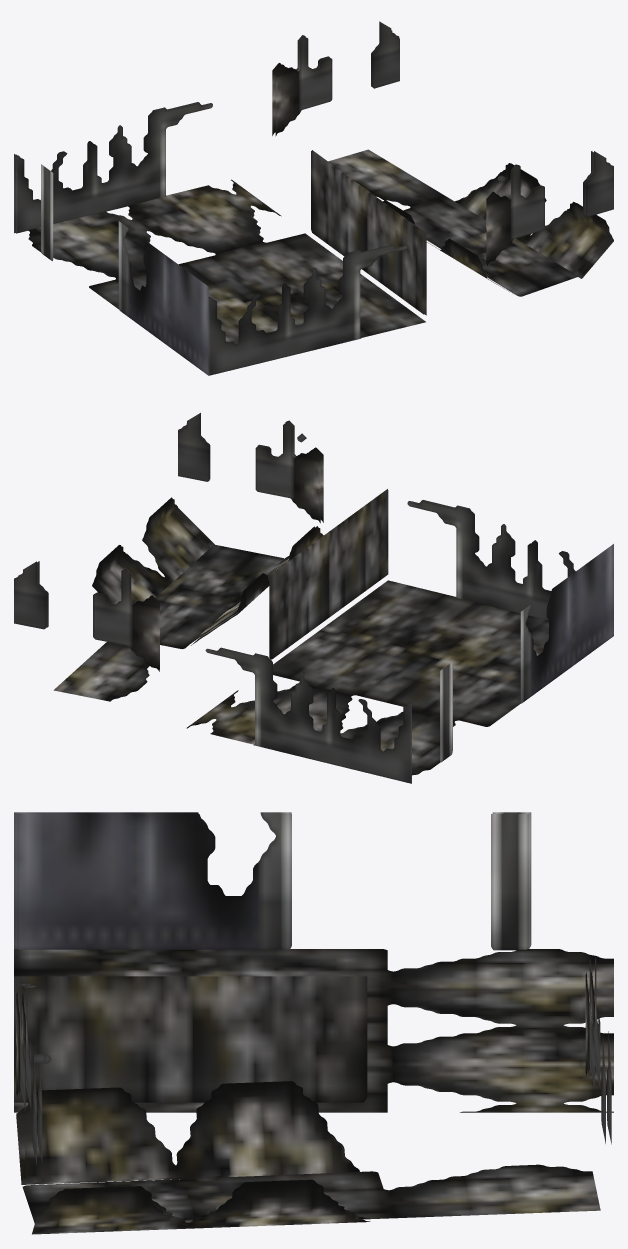
File: valvestation_dam.glb
3 views of the same model, one above another, from view 1: azimuth 30°, elevation 25°; view 2: azimuth 150°, elevation 25°; view 3: azimuth 270°, elevation 25° (orthographic). The views are drawn at different scales.
Parts seen in each view (by area): view 1: ValveStation; view 2: ValveStation; view 3: ValveStation.
Boxes of the visible parts, x1,y1,x2,y2 form: ValveStation: (14, 21, 613, 375); ValveStation: (14, 413, 613, 783); ValveStation: (14, 812, 613, 1234).
Size of the model in its own units: 13.81 by 4.33 by 11.28.
1 material, 1 textured.
